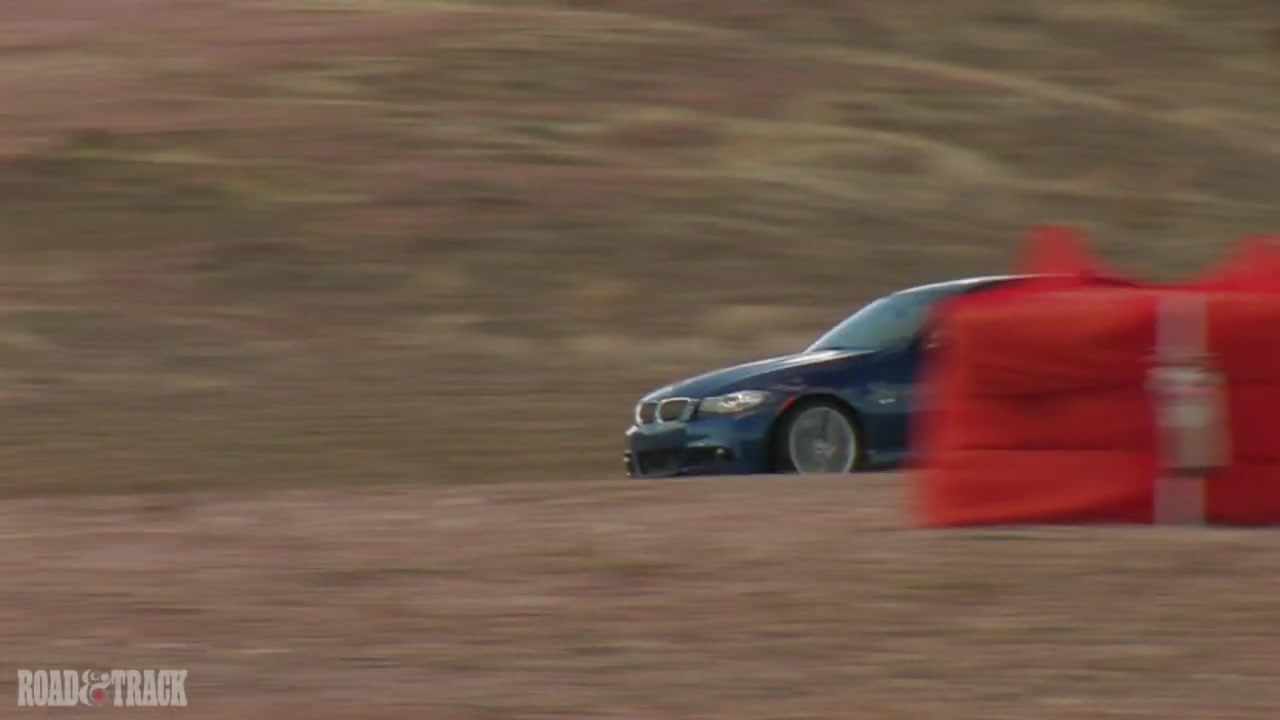car: (626, 273, 1149, 484)
